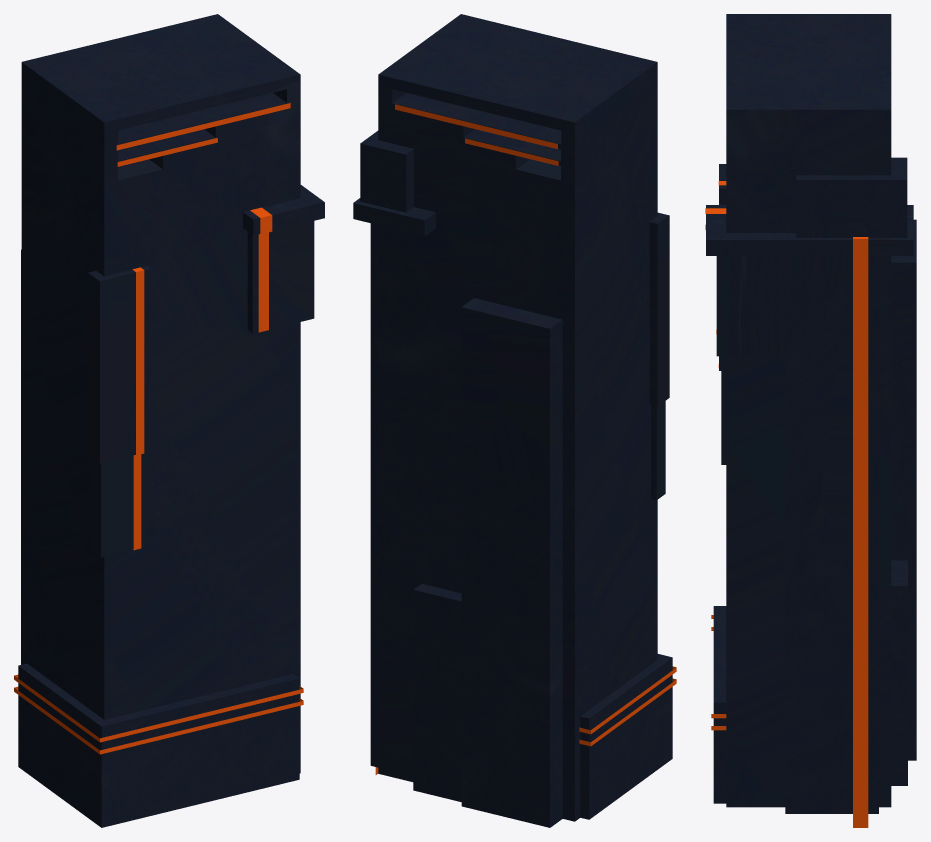
File: Pink Building.fbx
The picture shows the model from 3 angles, left to right: view 1: azimuth 30°, elevation 25°; view 2: azimuth 150°, elevation 25°; view 3: azimuth 270°, elevation 25°; orthographic projection.
Parts seen in each view (by area): view 1: Blue Building, Neon3; view 2: Blue Building, Neon3; view 3: Blue Building, Neon3.
Part boxes in pixels (x1,y1,x2,y2): Blue Building: [18, 14, 324, 827]; Neon3: [14, 103, 303, 754]; Blue Building: [353, 14, 672, 827]; Neon3: [375, 104, 676, 774]; Blue Building: [706, 14, 916, 813]; Neon3: [705, 181, 868, 827].
Size of the model in its own units: 46.42 by 142 by 38.2.
